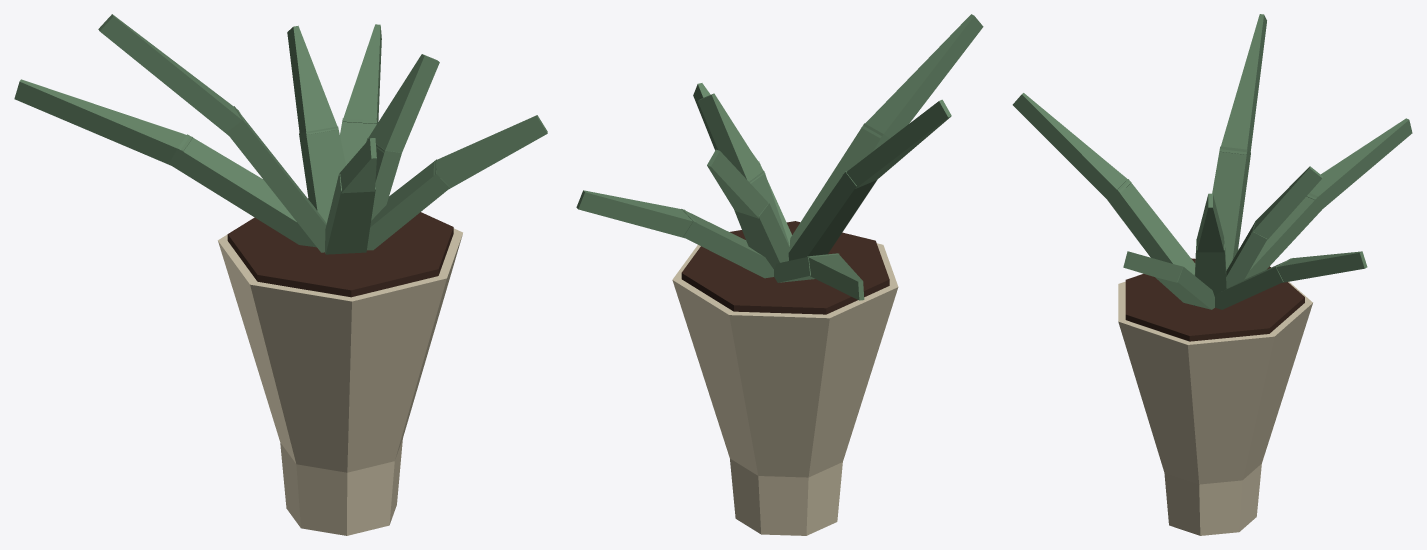
Rendered from potted-plant-08.glb.
3 renders of one model, left to right at view 1: azimuth 30°, elevation 25°; view 2: azimuth 150°, elevation 25°; view 3: azimuth 270°, elevation 25°, orthographic. The views are drawn at different scales.
Visible parts, largest first — view 1: potted_plant_08; view 2: potted_plant_08; view 3: potted_plant_08.
Boxes of the visible parts, <box> form: potted_plant_08: <box>14,14,547,535</box>; potted_plant_08: <box>576,14,983,535</box>; potted_plant_08: <box>1012,14,1412,535</box>.
Size of the model in its own units: 0.6062 by 0.8299 by 0.7094.
